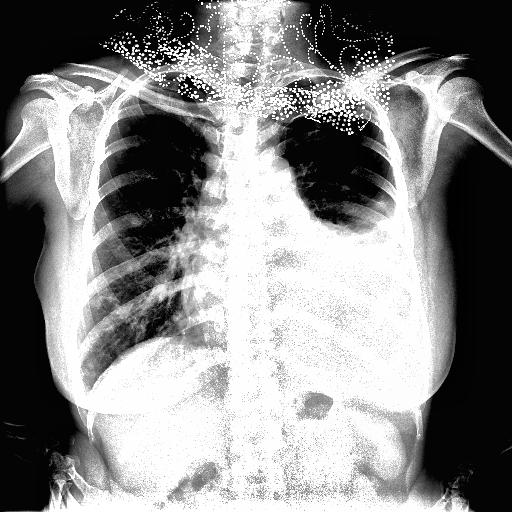0- Aortic enlargement: (246, 155, 299, 198)
10- Pleural effusion: (302, 199, 416, 372), (322, 198, 420, 374), (311, 205, 411, 377), (76, 370, 92, 416)
11- Pleural thickening: (76, 370, 92, 416)
13- Pulmonary fibrosis: (296, 154, 385, 204)
6- Infiltration: (79, 215, 144, 375), (92, 293, 151, 354)
7- Lung Opacity: (79, 215, 144, 375), (323, 200, 397, 245), (338, 218, 394, 248), (98, 209, 118, 219), (90, 295, 102, 311), (131, 216, 141, 228)
8- Nodule-Mass: (100, 210, 110, 218), (132, 219, 142, 226)
